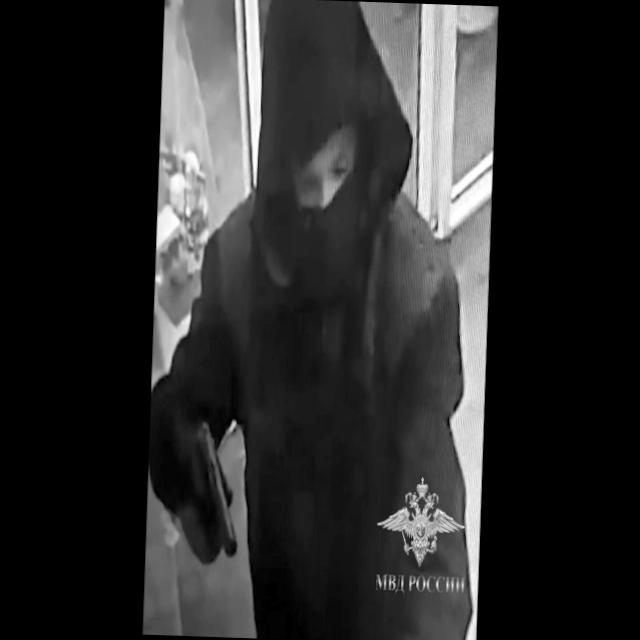gun: (183, 402, 244, 580)
person with a gun: (149, 7, 477, 640)
